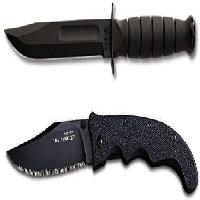knife: (3, 108, 200, 196), (3, 2, 196, 77)
